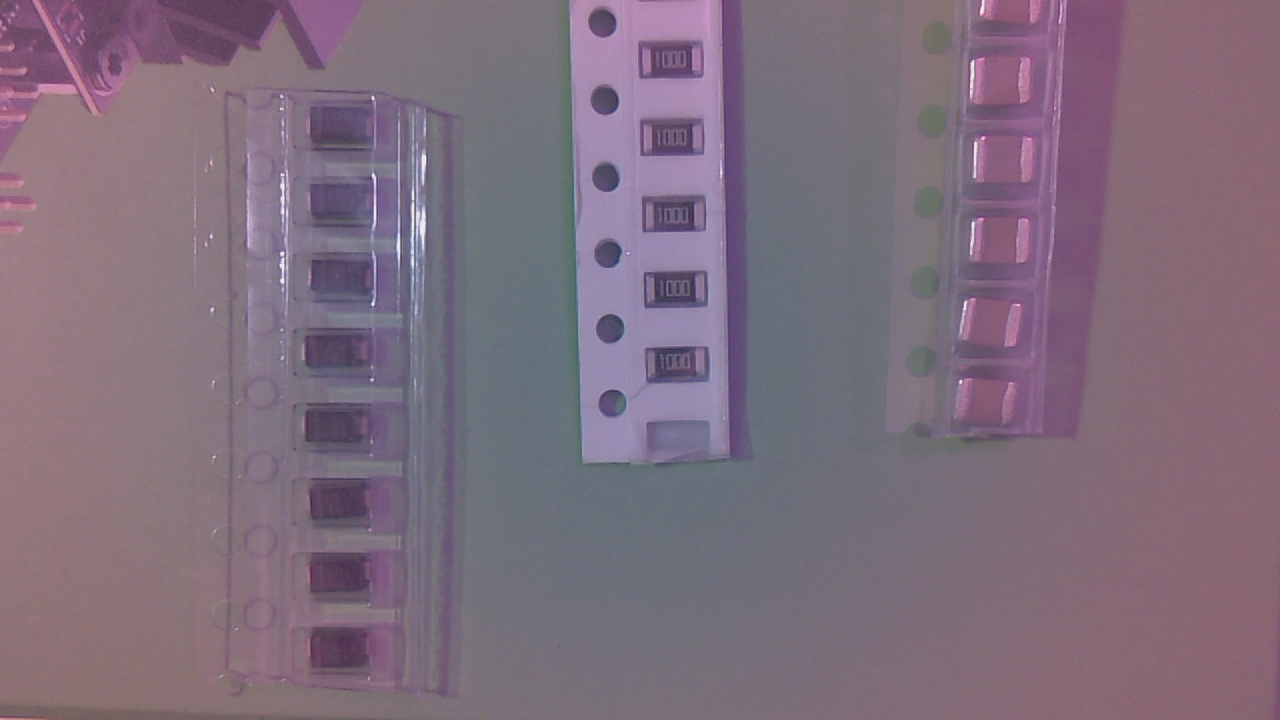Condensator: (964, 299, 1032, 356), (962, 380, 1028, 433), (977, 60, 1040, 114), (976, 138, 1041, 190), (975, 221, 1037, 271)
Diode: (310, 108, 384, 151), (306, 333, 377, 377), (310, 633, 379, 676), (305, 407, 374, 449), (309, 485, 380, 525), (313, 260, 381, 300), (307, 562, 387, 596), (312, 186, 378, 224)
Resistor: (646, 350, 715, 386), (645, 123, 710, 160), (649, 200, 712, 237), (645, 49, 709, 81), (650, 276, 714, 307)
